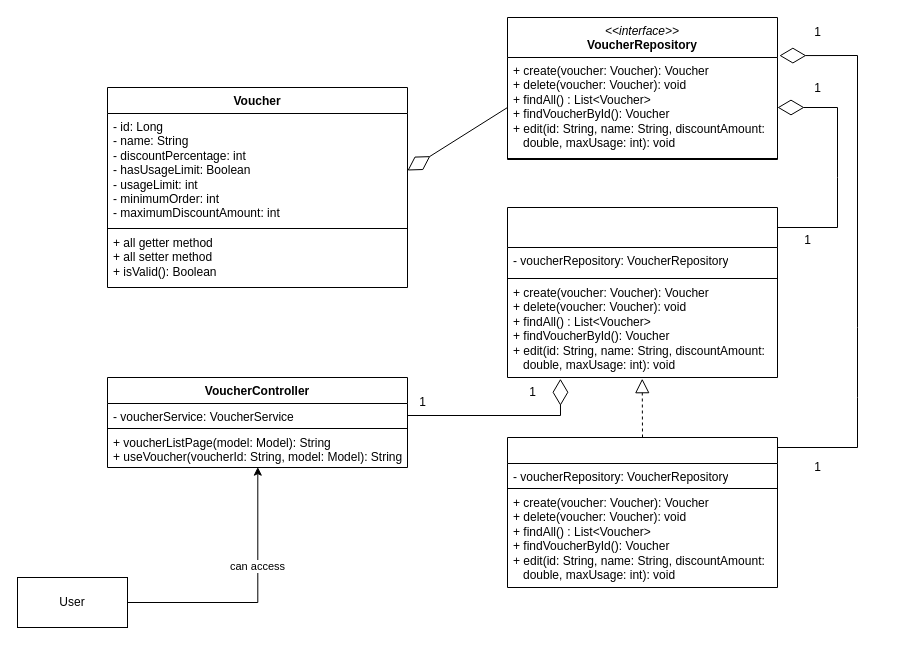
The diagram is 901 pixels wide and 645 high, and some of its shapes have lost their labels. The shapes that lost their labels are listed below. From the top down, each one's box as (x1, y1, x2, y2) in pixels, then its label:
(506, 206, 778, 378): <<interface>> VoucherService
(506, 436, 778, 588): VoucherServiceImpl
